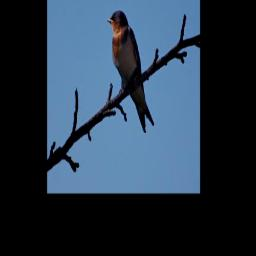Swallow: (107, 9, 154, 133)
